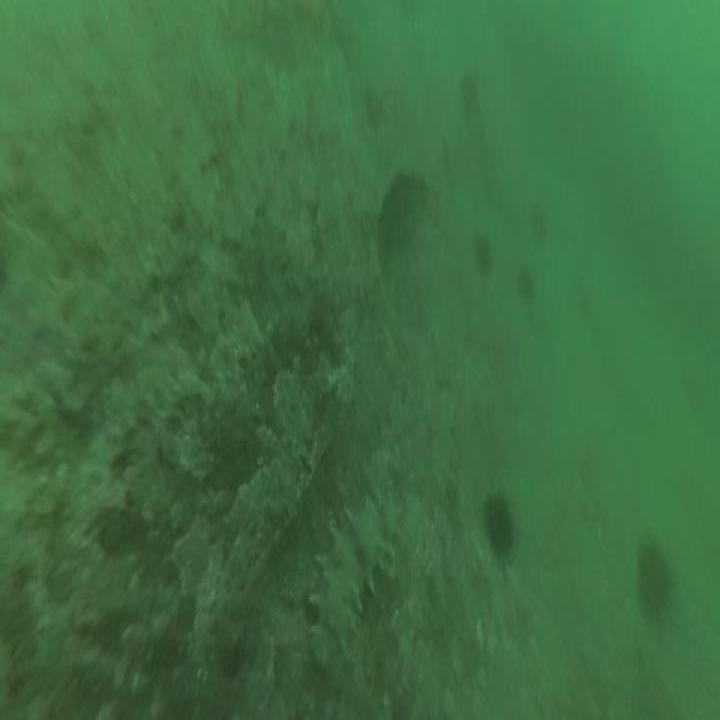echinus: (635, 542, 671, 620), (381, 172, 421, 238), (488, 496, 517, 551), (474, 231, 494, 272), (516, 265, 533, 293)
holothurian: (311, 496, 404, 672)
